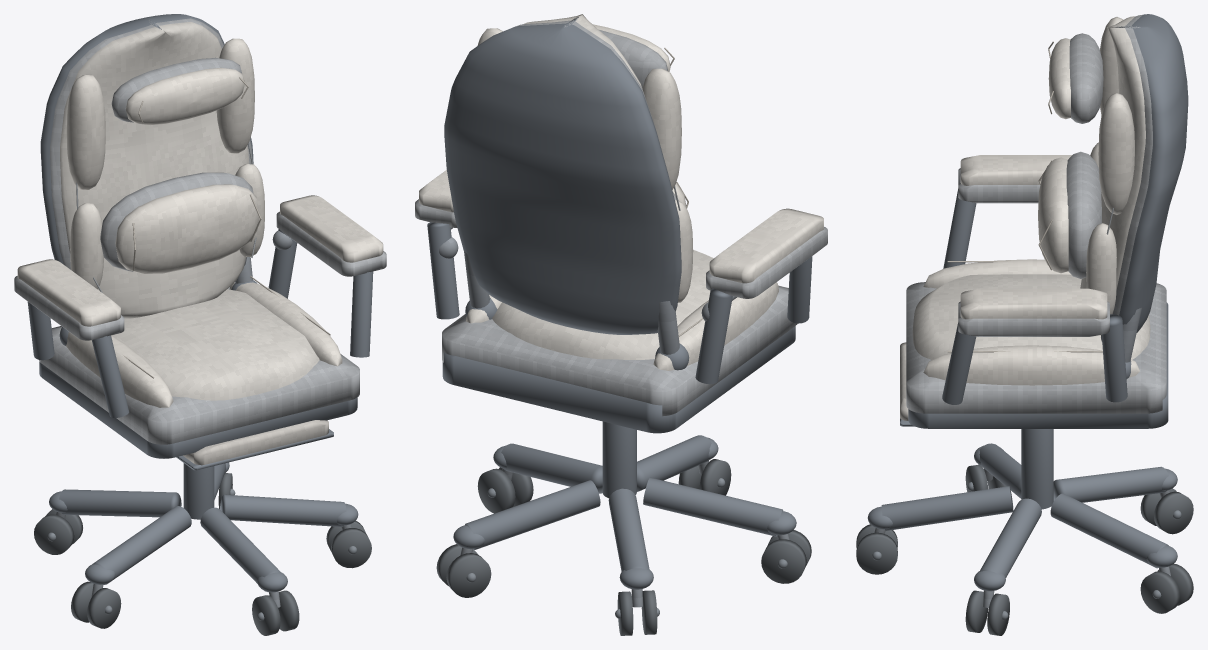
Rendered from chair_gaming.glb.
3 views of the same model, side by side, from view 1: azimuth 30°, elevation 25°; view 2: azimuth 150°, elevation 25°; view 3: azimuth 270°, elevation 25° (orthographic). The views are drawn at different scales.
Parts seen in each view (by area): view 1: leather_cream, leather_pearl, grey_inset, graphite, dark_shell, rubber, leather_shadow, gunmetal; view 2: dark_shell, graphite, grey_inset, leather_cream, rubber, leather_pearl, gunmetal; view 3: leather_cream, grey_inset, graphite, dark_shell, leather_pearl, rubber, gunmetal, leather_shadow, stitch.
Boxes of the visible parts, box(x1,y1,x2,y2) form: leather_cream: box(17, 38, 383, 407); leather_pearl: box(60, 22, 319, 400); grey_inset: box(14, 18, 386, 444); graphite: box(27, 229, 373, 592); dark_shell: box(39, 14, 357, 458); rubber: box(34, 473, 371, 635); leather_shadow: box(183, 420, 328, 465); gunmetal: box(56, 230, 351, 607); dark_shell: box(442, 18, 795, 433); graphite: box(427, 222, 812, 589); grey_inset: box(415, 17, 827, 416); leather_cream: box(419, 24, 823, 370); rubber: box(436, 459, 811, 635); leather_pearl: box(492, 14, 713, 359); gunmetal: box(439, 227, 789, 607); leather_cream: box(923, 17, 1139, 385); grey_inset: box(906, 14, 1166, 413); graphite: box(867, 189, 1177, 591); dark_shell: box(908, 14, 1188, 428); leather_pearl: box(912, 16, 1150, 359); rubber: box(856, 464, 1193, 635); gunmetal: box(874, 307, 1170, 607); leather_shadow: box(900, 342, 908, 420); stitch: box(947, 41, 1102, 352).
Bounding box in the file's own units: 0.78 × 1.26 × 0.7134.
12 materials, 9 textured.
